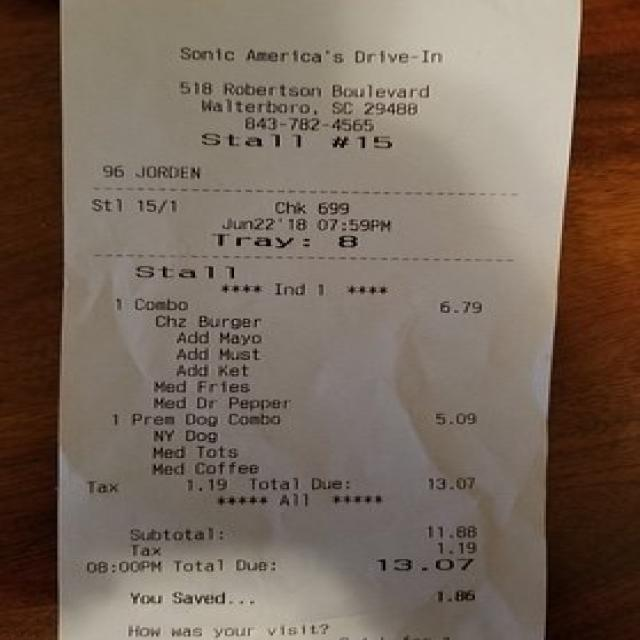TotalPrice: (161, 544, 493, 590)
